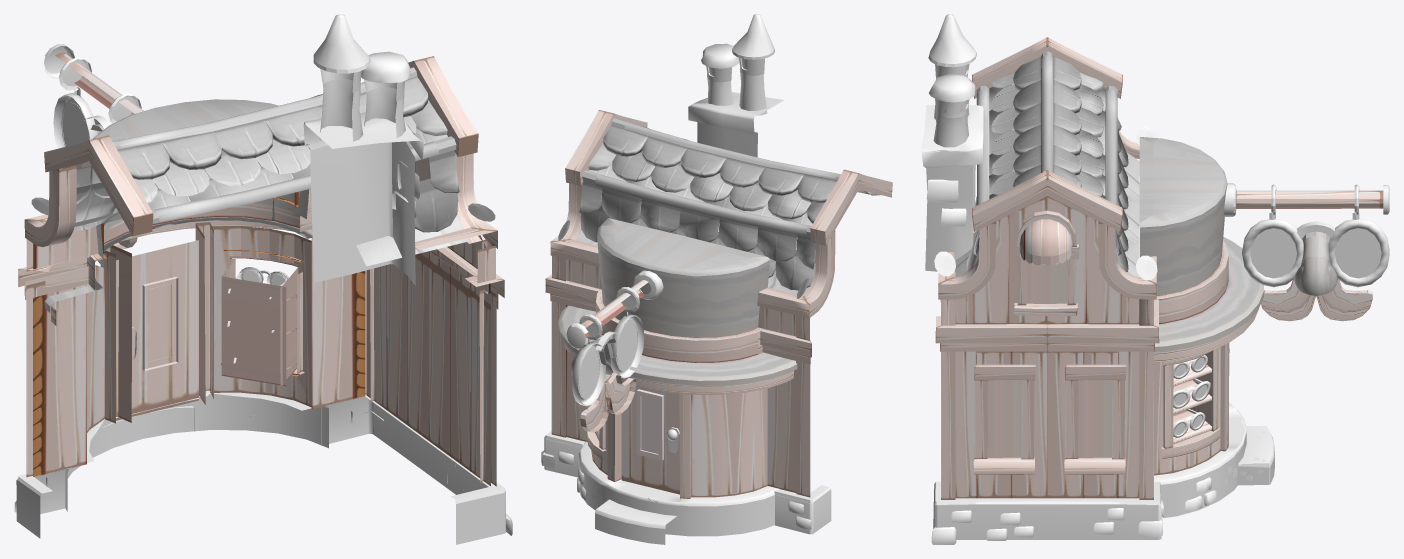
Rendered from AccessoryShop.fbx.
3 views of the same model, side by side, from view 1: azimuth 30°, elevation 25°; view 2: azimuth 150°, elevation 25°; view 3: azimuth 270°, elevation 25° (orthographic). The views are drawn at different scales.
Parts seen in each view (by area): view 1: AccessoryShop; view 2: AccessoryShop; view 3: AccessoryShop.
Boxes of the visible parts, x1=… form: AccessoryShop: x1=14, y1=14, x2=512, y2=544; AccessoryShop: x1=541, y1=14, x2=892, y2=544; AccessoryShop: x1=921, y1=14, x2=1389, y2=544.
Size of the model in its own units: 4.61 by 6.42 by 5.85.
Materials: 1 (1 with a texture image).
